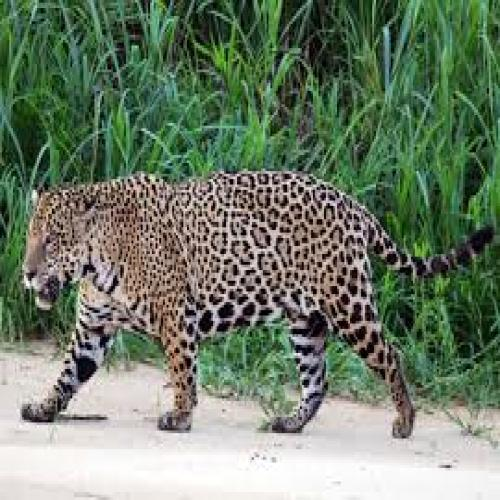jaguar_not-endangered: (22, 168, 492, 443)
